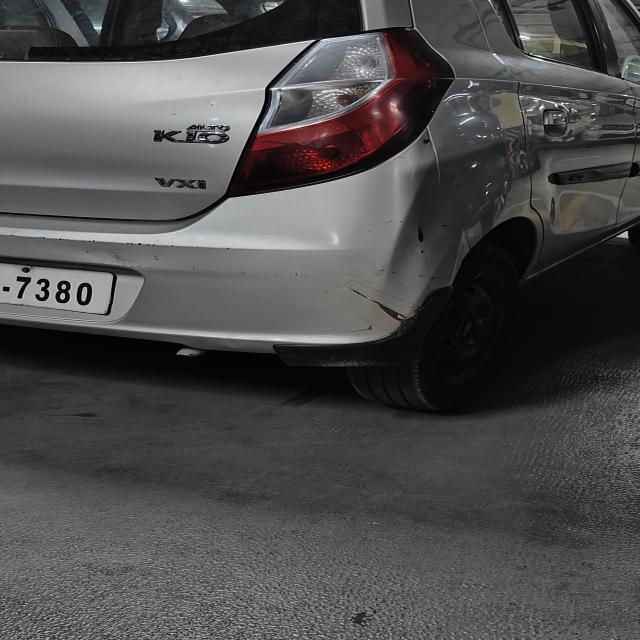scratch: (339, 230, 442, 324), (71, 237, 225, 270)
